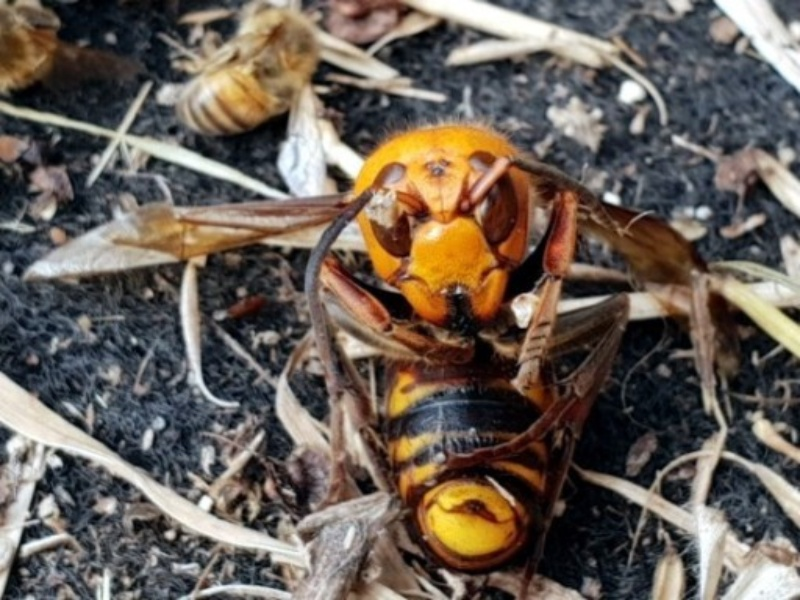asian_giant_hornet: (305, 117, 602, 573)
